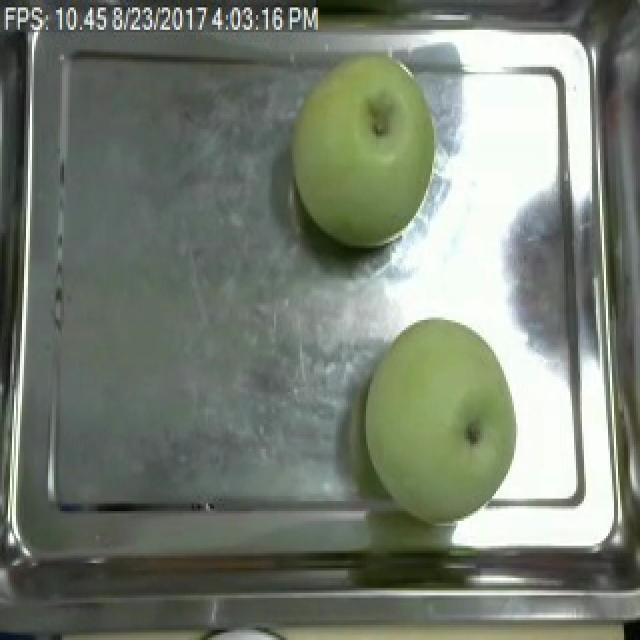50-_ripeness: (348, 314, 538, 535), (288, 49, 454, 243)
